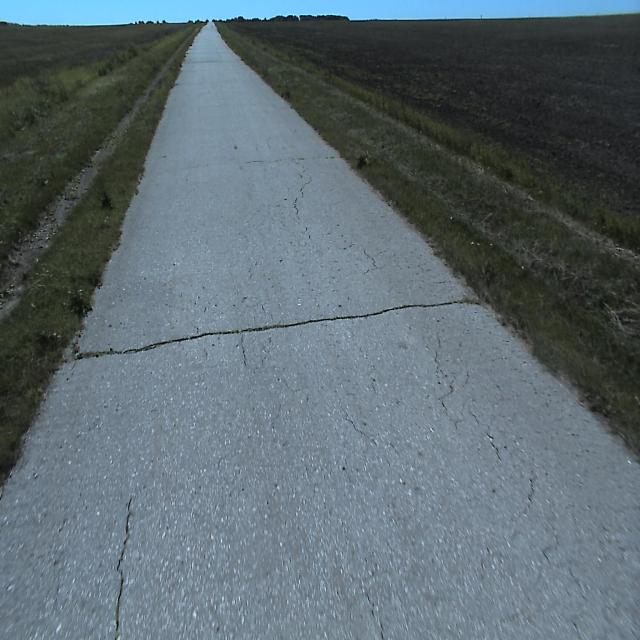road: (0, 22, 640, 639)
